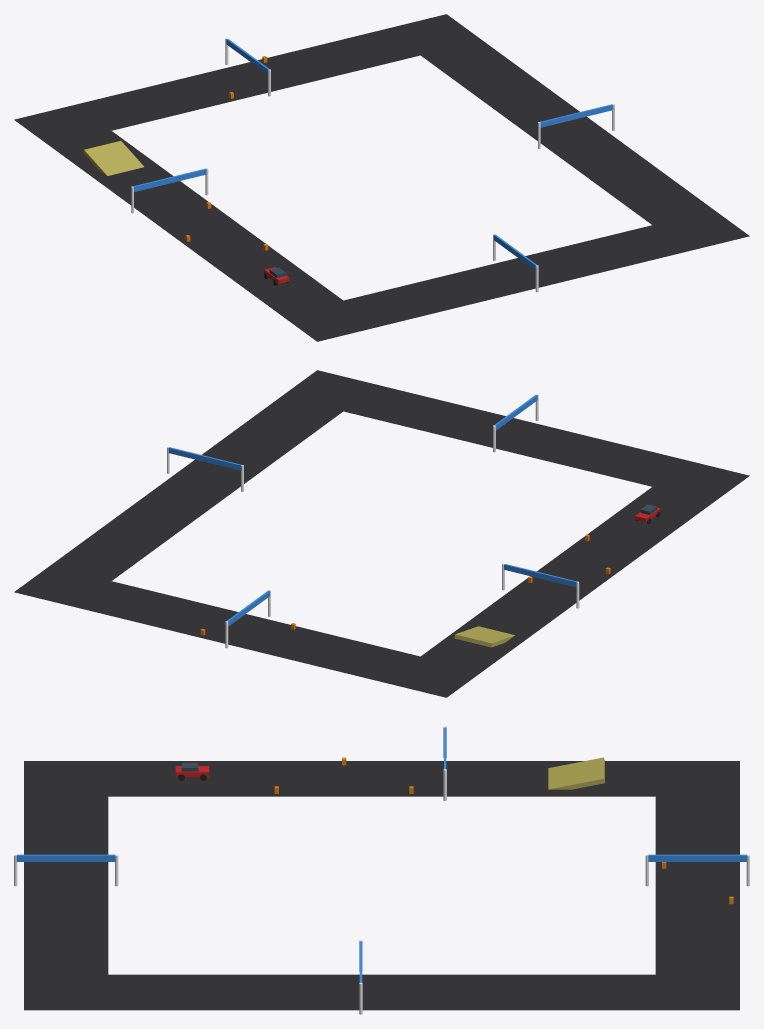
3 renders of one model, top to bottom at view 1: azimuth 30°, elevation 25°; view 2: azimuth 150°, elevation 25°; view 3: azimuth 270°, elevation 25°, orthographic. The views are drawn at different scales.
Visible parts, largest first — view 1: RoadEast, RoadWest, RoadSouth, RoadNorth, Ramp; view 2: RoadEast, RoadWest, RoadNorth, RoadSouth, Ramp; view 3: RoadEast, RoadWest, RoadNorth, RoadSouth, Ramp, Checkpoint2Banner, Checkpoint4Banner.
Part boxes in pixels (bbox=[...]): RoadEast: bbox=[385, 14, 749, 251]; RoadWest: bbox=[14, 105, 378, 341]; RoadSouth: bbox=[292, 210, 748, 341]; RoadNorth: bbox=[15, 14, 480, 137]; Ramp: bbox=[83, 141, 143, 175]; RoadEast: bbox=[14, 370, 378, 607]; RoadWest: bbox=[385, 461, 749, 697]; RoadNorth: bbox=[15, 566, 479, 697]; RoadSouth: bbox=[282, 370, 748, 487]; Ramp: bbox=[454, 626, 514, 647]; RoadEast: bbox=[24, 974, 739, 1010]; RoadWest: bbox=[24, 761, 739, 796]; RoadNorth: bbox=[655, 761, 739, 1009]; RoadSouth: bbox=[24, 761, 108, 1010]; Ramp: bbox=[548, 757, 604, 789]; Checkpoint2Banner: bbox=[647, 854, 747, 861]; Checkpoint4Banner: bbox=[16, 854, 115, 861].
Size of what is drawn, in the model's own units: 72.4 by 4.83 by 87.4.
